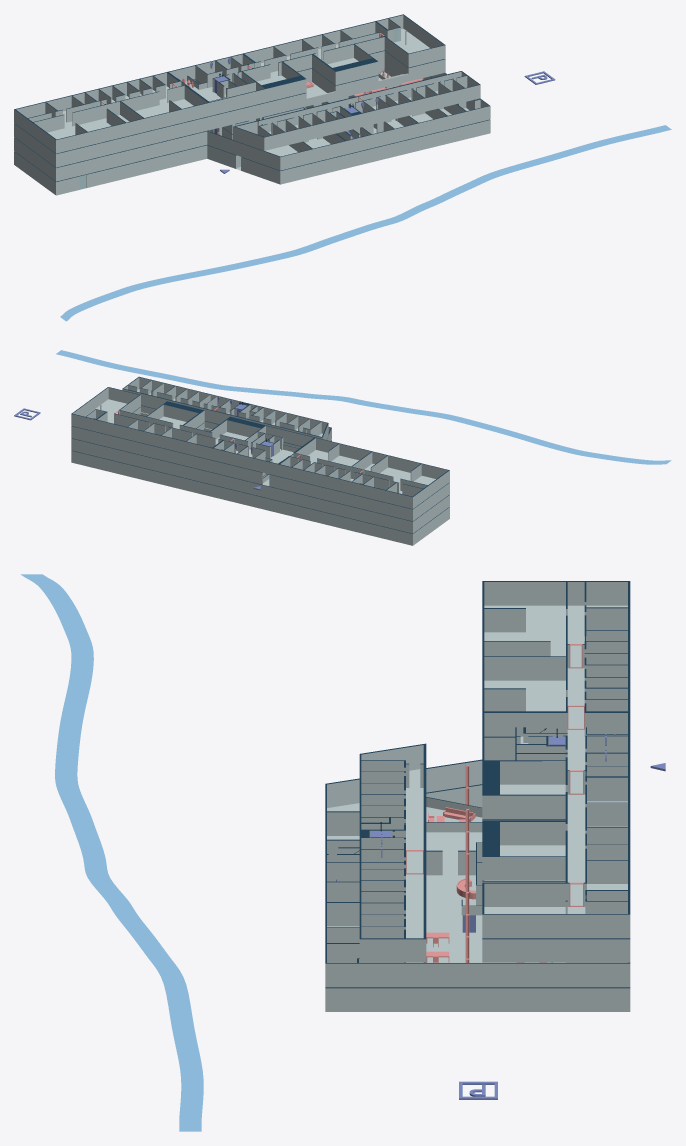
File: papierfabrik.glb
3 views of the same model, one above another, from view 1: azimuth 30°, elevation 25°; view 2: azimuth 150°, elevation 25°; view 3: azimuth 270°, elevation 25° (orthographic). The views are drawn at different scales.
Parts seen in each view (by area): view 1: 04_Dachgeschoss, Flusslauf_v4, 03_Obergeschoss, 9442_Technik, 02_Zwischengeschoss, 9441_RZ_Zentraler_Serverraum, 9429_MI_Seminar_MAC_Motion_Capture, 9428_MI_Silicon_Graphics_3D, 9301_A1_Datenbanken, 9129_Audimax, 01_Erdgeschoss, 9101_S_Seminar_1 (+23 smaller); view 2: 04_Dachgeschoss, Flusslauf_v4, 02_Zwischengeschoss, 01_Erdgeschoss, 9442_Technik, 03_Obergeschoss, 9441_RZ_Zentraler_Serverraum, 9115_Bibliothek, 9429_MI_Seminar_MAC_Motion_Capture, 9428_MI_Silicon_Graphics_3D, 9440_RZ_Projektraum_Server, 9427_Heizung (+15 smaller); view 3: 04_Dachgeschoss, Flusslauf_v4, 02_Zwischengeschoss, 9115_Bibliothek, 9441_RZ_Zentraler_Serverraum, 9442_Technik, 9429_MI_Seminar_MAC_Motion_Capture, 9428_MI_Silicon_Graphics_3D, 03_Obergeschoss, 01_Erdgeschoss, 9328_MI_Labor_PC, 9416_A1_Buero_11 (+14 smaller).
Part boxes in pixels (bbox=[...]): 04_Dachgeschoss: bbox=[27, 14, 445, 135]; Flusslauf_v4: bbox=[60, 125, 671, 321]; 03_Obergeschoss: bbox=[27, 50, 466, 149]; 9442_Technik: bbox=[32, 101, 144, 153]; 02_Zwischengeschoss: bbox=[78, 73, 480, 175]; 9441_RZ_Zentraler_Serverraum: bbox=[120, 85, 210, 131]; 9429_MI_Seminar_MAC_Motion_Capture: bbox=[312, 44, 378, 85]; 9428_MI_Silicon_Graphics_3D: bbox=[242, 61, 306, 102]; 9301_A1_Datenbanken: bbox=[233, 140, 312, 170]; 9129_Audimax: bbox=[126, 145, 207, 178]; 01_Erdgeschoss: bbox=[78, 119, 490, 189]; 9101_S_Seminar_1: bbox=[242, 157, 312, 184]; 04_Dachgeschoss: bbox=[71, 387, 428, 500]; Flusslauf_v4: bbox=[56, 350, 671, 464]; 02_Zwischengeschoss: bbox=[71, 405, 392, 528]; 01_Erdgeschoss: bbox=[71, 450, 392, 540]; 9442_Technik: bbox=[351, 451, 449, 496]; 03_Obergeschoss: bbox=[85, 385, 428, 512]; 9441_RZ_Zentraler_Serverraum: bbox=[293, 437, 371, 478]; 9115_Bibliothek: bbox=[96, 456, 212, 496]; 9429_MI_Seminar_MAC_Motion_Capture: bbox=[146, 401, 204, 431]; 9428_MI_Silicon_Graphics_3D: bbox=[208, 416, 265, 450]; 9440_RZ_Projektraum_Server: bbox=[385, 482, 424, 508]; 9427_Heizung: bbox=[96, 411, 137, 439]; 04_Dachgeschoss: bbox=[482, 581, 630, 938]; Flusslauf_v4: bbox=[20, 574, 203, 1131]; 02_Zwischengeschoss: bbox=[325, 759, 630, 987]; 9115_Bibliothek: bbox=[423, 850, 586, 1011]; 9441_RZ_Zentraler_Serverraum: bbox=[482, 656, 567, 736]; 9442_Technik: bbox=[482, 581, 567, 656]; 9429_MI_Seminar_MAC_Motion_Capture: bbox=[482, 820, 567, 880]; 9428_MI_Silicon_Graphics_3D: bbox=[482, 760, 567, 819]; 03_Obergeschoss: bbox=[359, 764, 585, 962]; 01_Erdgeschoss: bbox=[325, 784, 630, 1011]; 9328_MI_Labor_PC: bbox=[482, 938, 567, 962]; 9416_A1_Buero_11: bbox=[359, 926, 405, 962].
Size of the model in its own units: 176 by 15.92 by 86.15.
